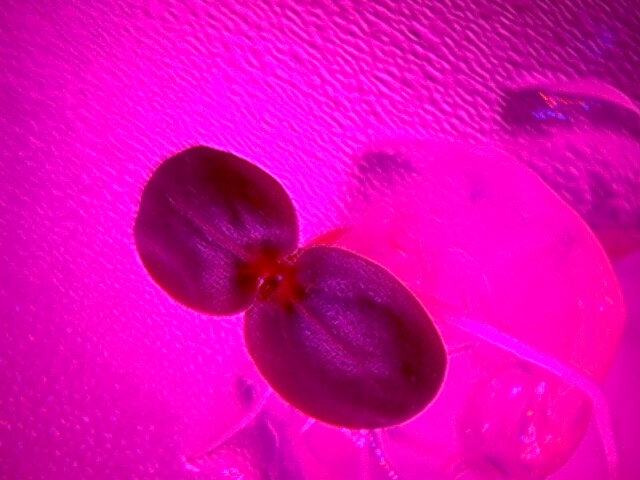seedling: (120, 151, 457, 434)
